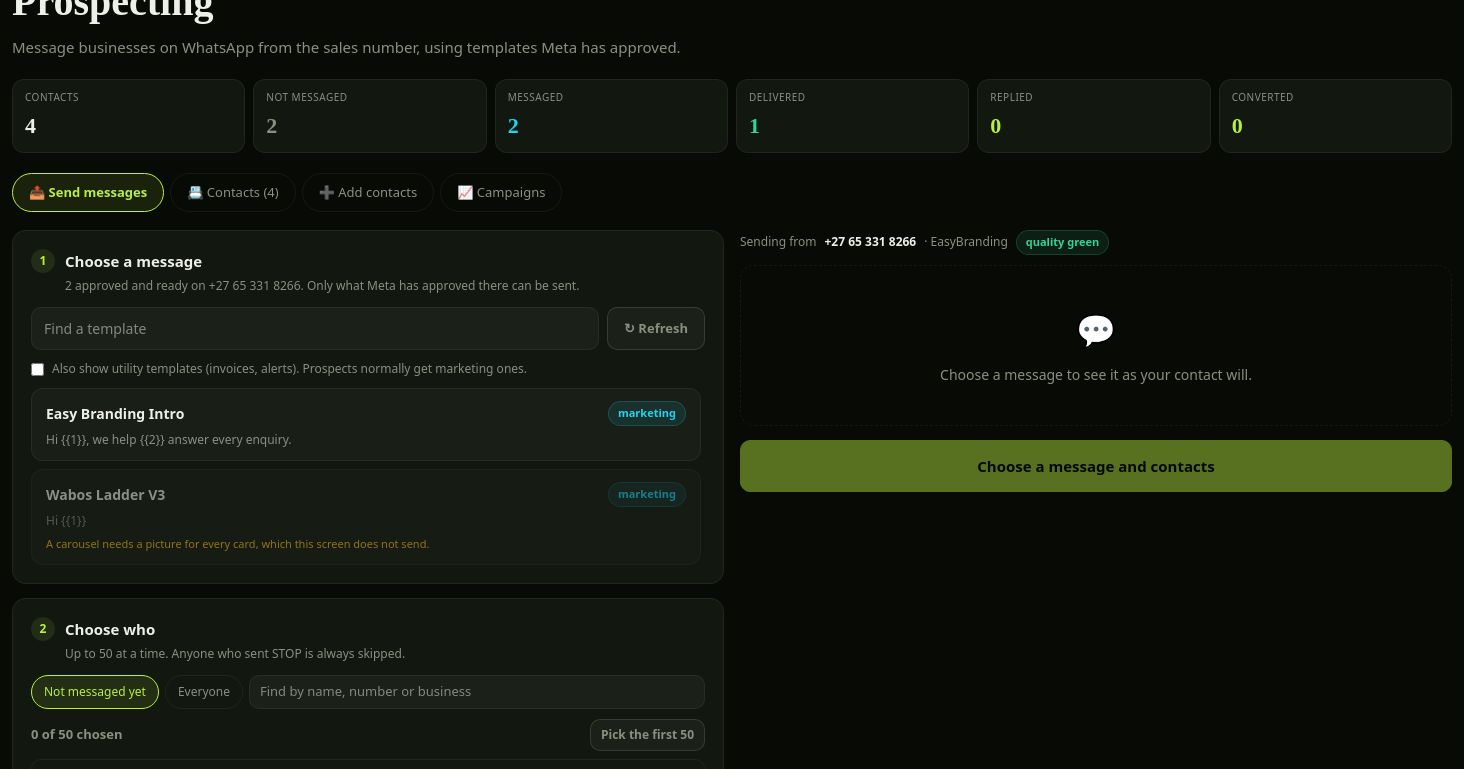
ProspectingPanel › holds back anyone messaged this week unless "send again" is ticked
The width and height of the screenshot is (1464, 769).
Click the text "easy branding intro": (115, 413) [46,403,184,424]
(page scrolled)
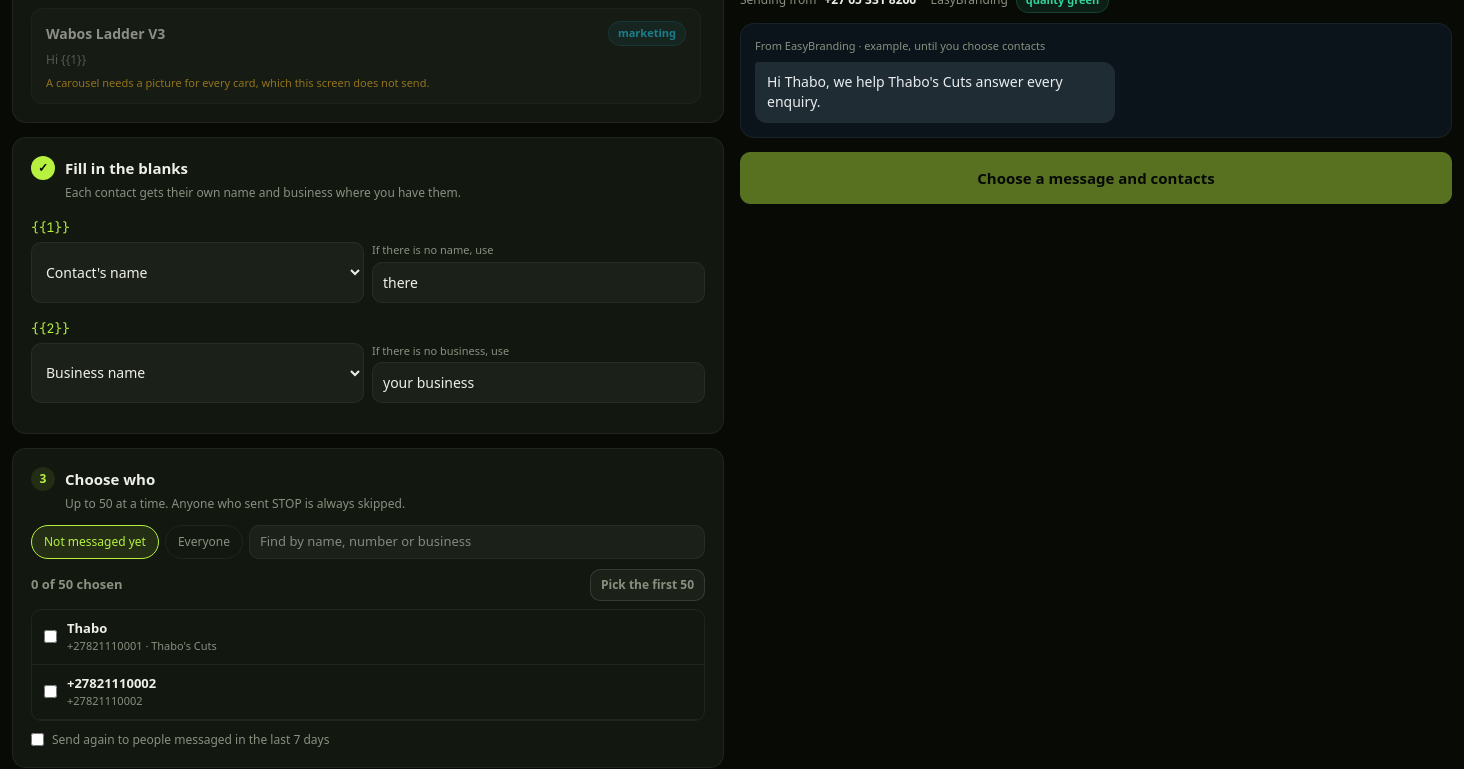
Click the button "Everyone": (204, 542) [165,525,243,559]
(page scrolled)
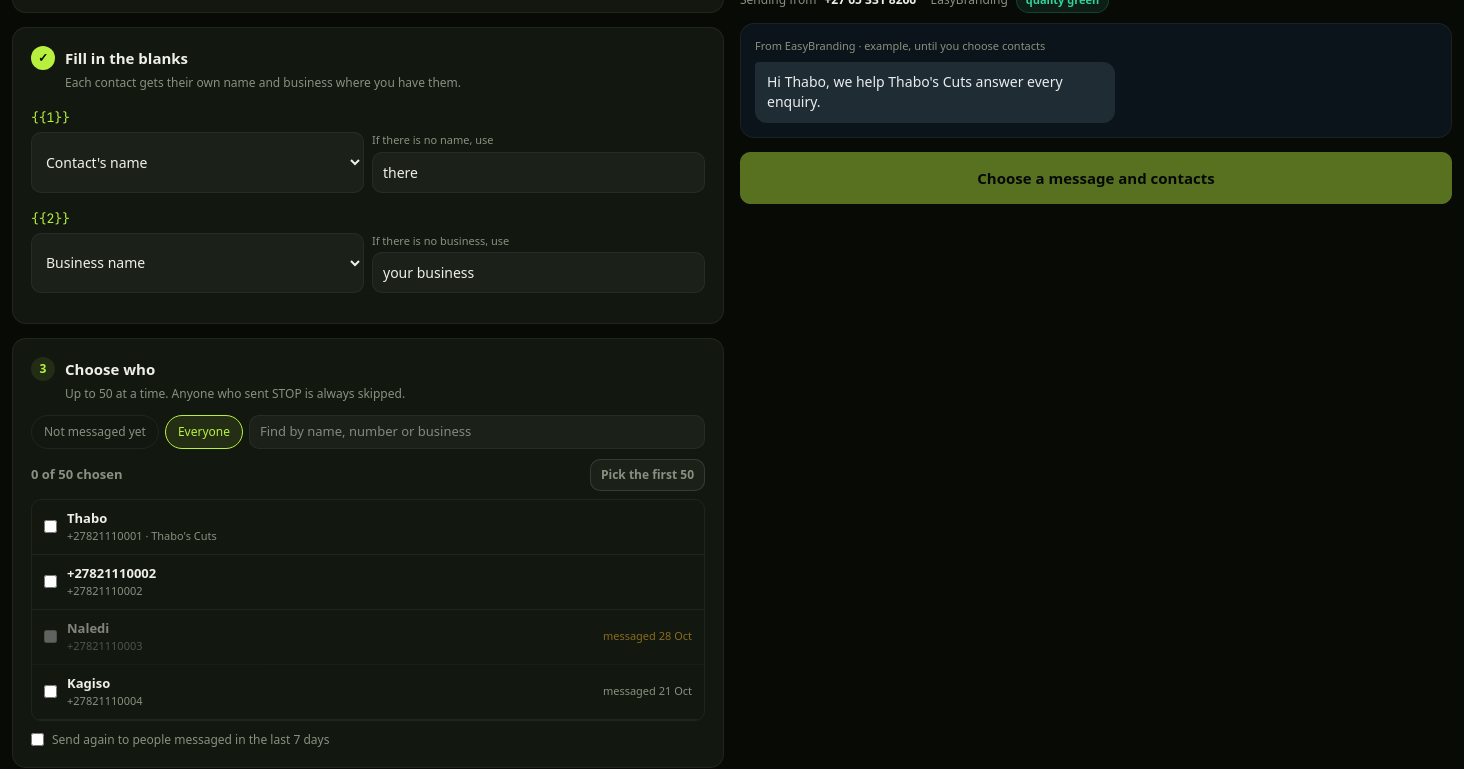
Expected: the checkbox named "Choose Kagiso" is enabled, [44,685,57,698]
Expected: the checkbox named "Choose Naledi" is disabled, [44,630,57,643]
Click the checkbox labelled "Send again to people messaged in the last 7 days": (38, 740) [31,733,44,746]
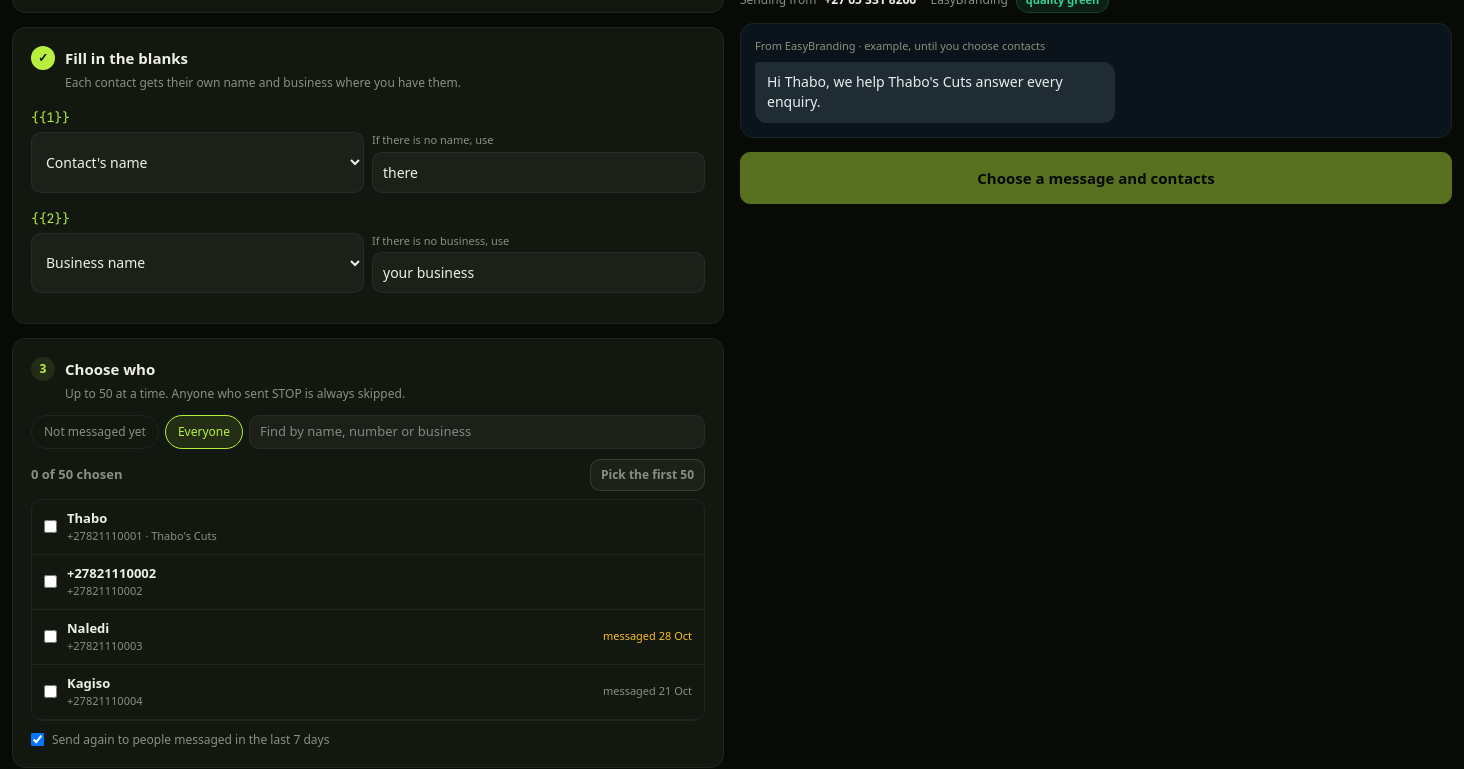
Expected: the checkbox named "Choose Naledi" is enabled, [44,630,57,643]
